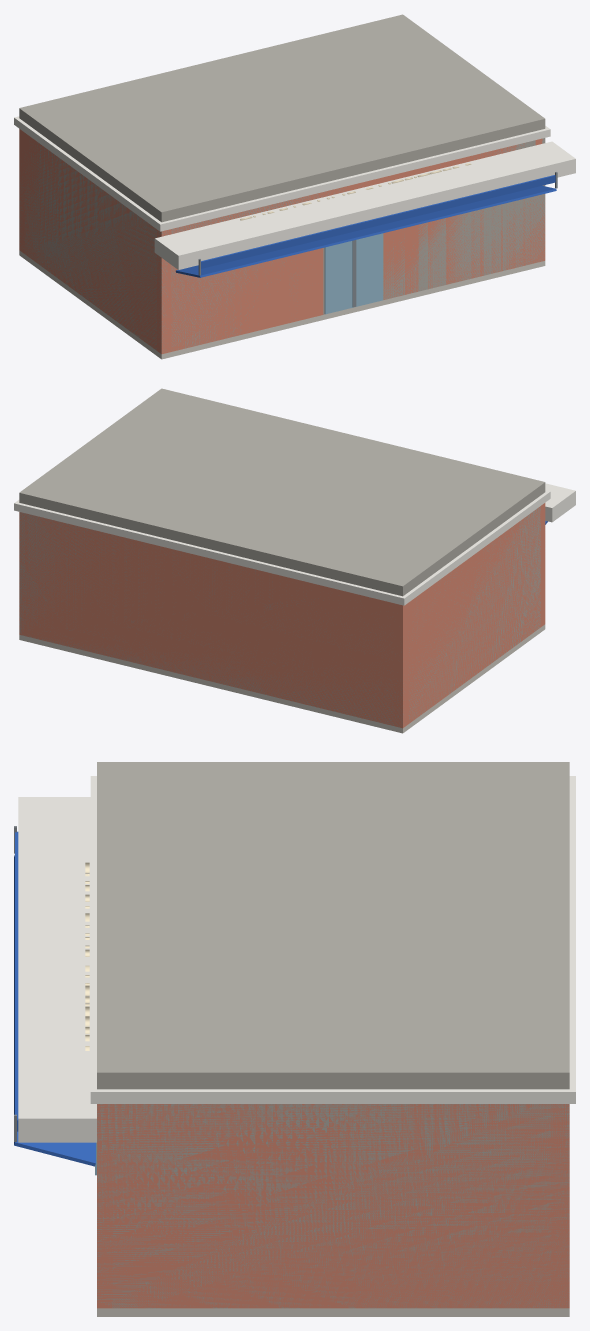
The model's file is BLD_ClothingShop.fbx.
3 renders of one model, top to bottom at view 1: azimuth 30°, elevation 25°; view 2: azimuth 150°, elevation 25°; view 3: azimuth 270°, elevation 25°, orthographic. The views are drawn at different scales.
Parts seen in each view (by area): view 1: BLD_ClothingShop__BODY, BLD_ClothingShop__COL_Main; view 2: BLD_ClothingShop__BODY, BLD_ClothingShop__COL_Main; view 3: BLD_ClothingShop__BODY, BLD_ClothingShop__COL_Main, BLD_ClothingShop__SIGN.
Part boxes in pixels (box(x1,y1,x2,y2)): BLD_ClothingShop__BODY: box(14, 14, 575, 359); BLD_ClothingShop__COL_Main: box(19, 119, 545, 352); BLD_ClothingShop__BODY: box(14, 388, 575, 733); BLD_ClothingShop__COL_Main: box(19, 482, 545, 727); BLD_ClothingShop__BODY: box(14, 762, 575, 1316); BLD_ClothingShop__COL_Main: box(97, 1072, 569, 1308); BLD_ClothingShop__SIGN: box(85, 862, 89, 1050).
Bounding box in the file's own units: 14.5 × 5.13 × 10.7.
